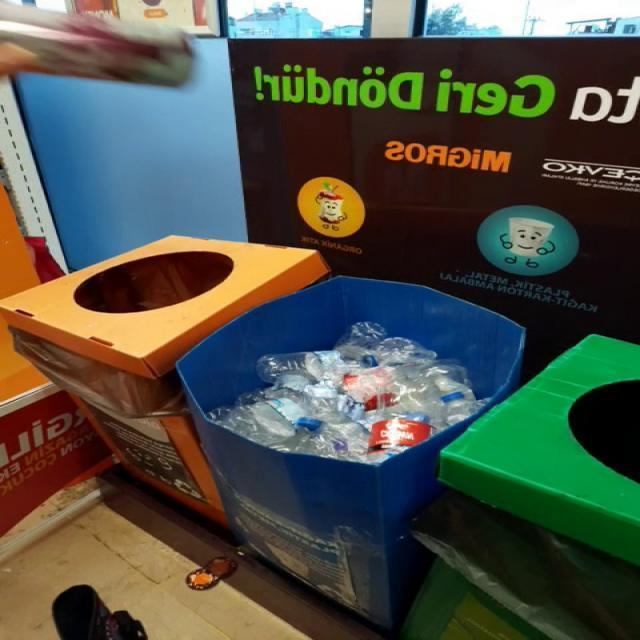Other: (0, 225, 514, 236)
